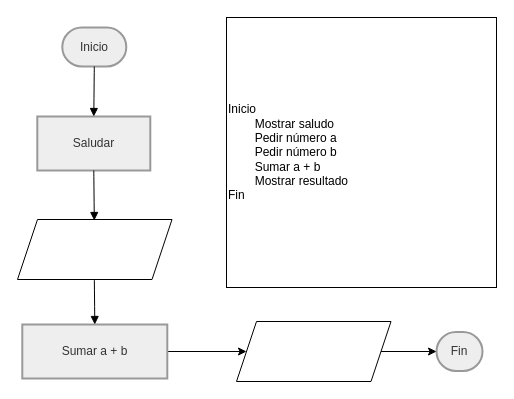
Image size: 514x399. Some labels were removed from this diagram. The shapes that lost their labels are listed below. From the top down, each one's box as (x1, y1, x2, y2) in pixels, then its label:
(16, 218, 172, 280): Pedir a y b
(236, 320, 391, 382): Mostrar resultado
